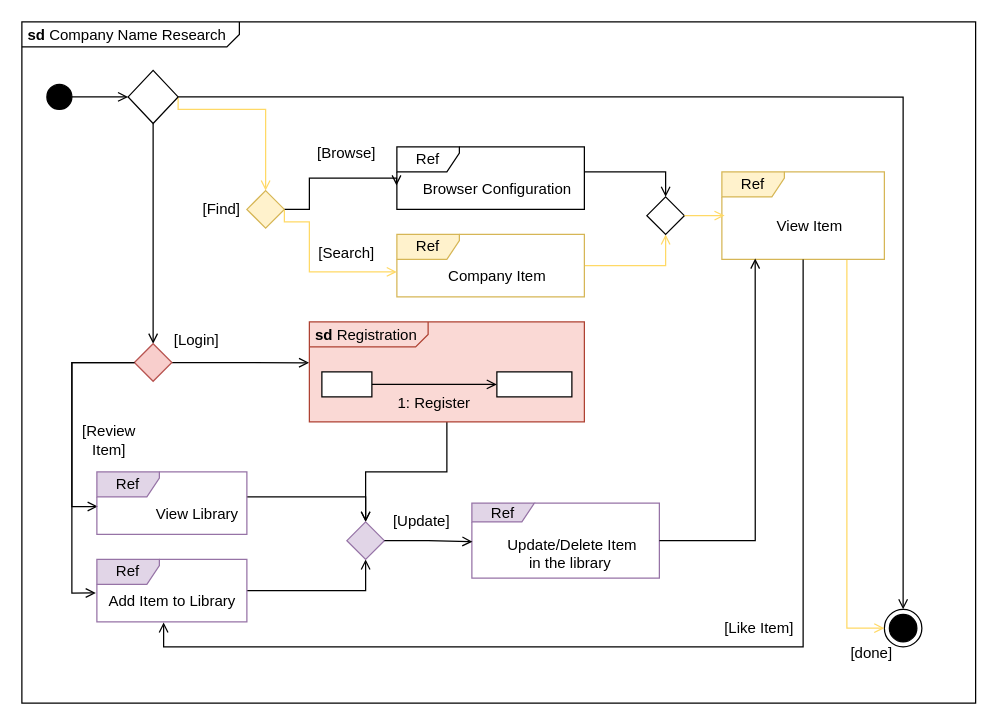
Image size: 998x725. Some labels were removed from this diagram. The shapes that lost their labels are listed below. From the top down, each one's centre as x and y in pixels, then its label:
At point 346,384: "User".
At point 534,384: "Registar".
